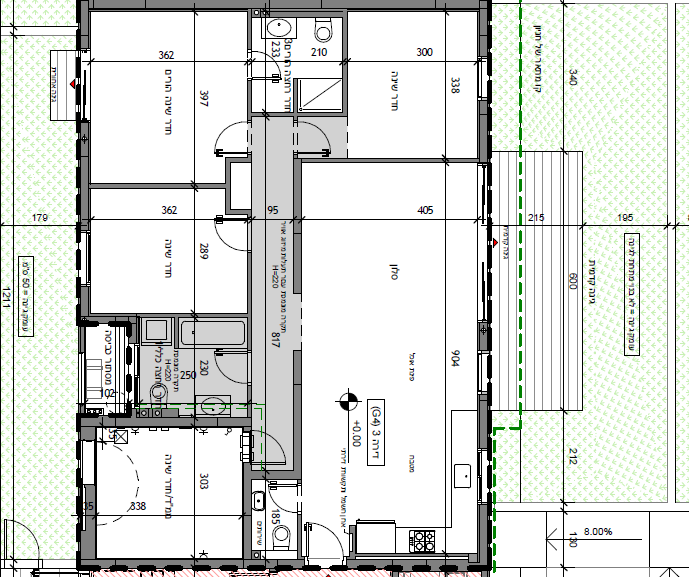door: (200, 118, 243, 157), (208, 214, 242, 259), (210, 348, 245, 389), (302, 118, 338, 156), (304, 520, 341, 551)
wall: (295, 389, 301, 471)
